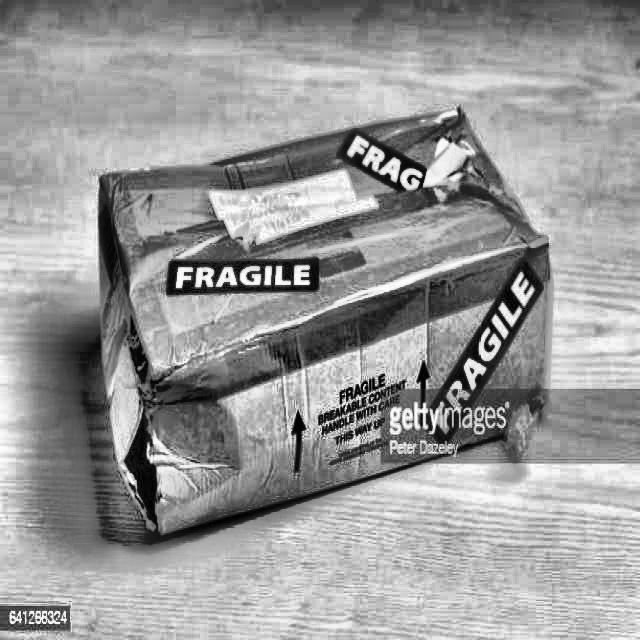box: (92, 95, 558, 540)
hole: (127, 389, 161, 547)
